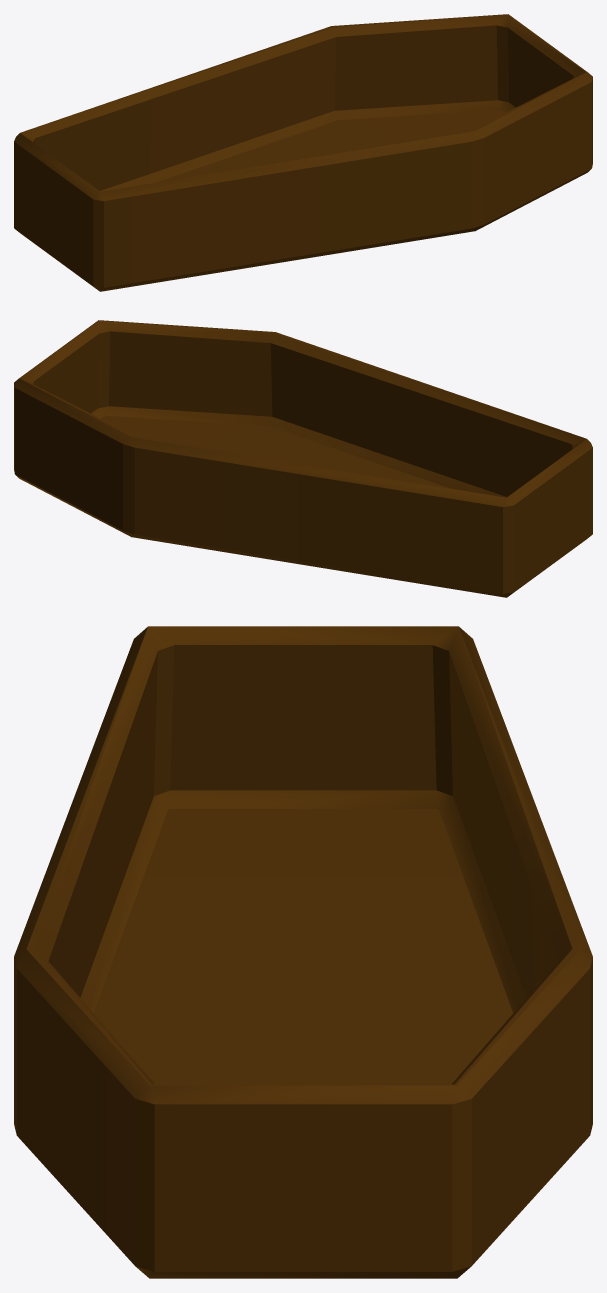
The model's file is Cofin_2_2.glb.
3 views of the same model, one above another, from view 1: azimuth 30°, elevation 25°; view 2: azimuth 150°, elevation 25°; view 3: azimuth 270°, elevation 25° (orthographic). The views are drawn at different scales.
Visible parts, largest first — view 1: Cofin_2_2; view 2: Cofin_2_2; view 3: Cofin_2_2.
Part boxes in pixels (left/top/right/bottom): Cofin_2_2: left=14, top=14, right=592, bottom=291; Cofin_2_2: left=14, top=320, right=592, bottom=597; Cofin_2_2: left=14, top=626, right=592, bottom=1278.
Bounding box in the file's own units: 1.27 × 0.2435 × 0.6612.
1 material, 1 textured.
